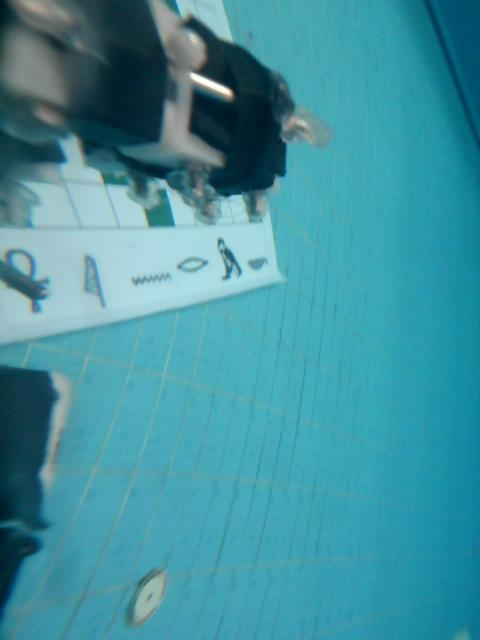Ankh: (5, 246, 51, 317)
Basket: (247, 256, 270, 274)
Mouth: (176, 256, 208, 273)
Owl: (214, 237, 244, 281)
Reed: (79, 251, 107, 309)
Water: (131, 270, 173, 285)
